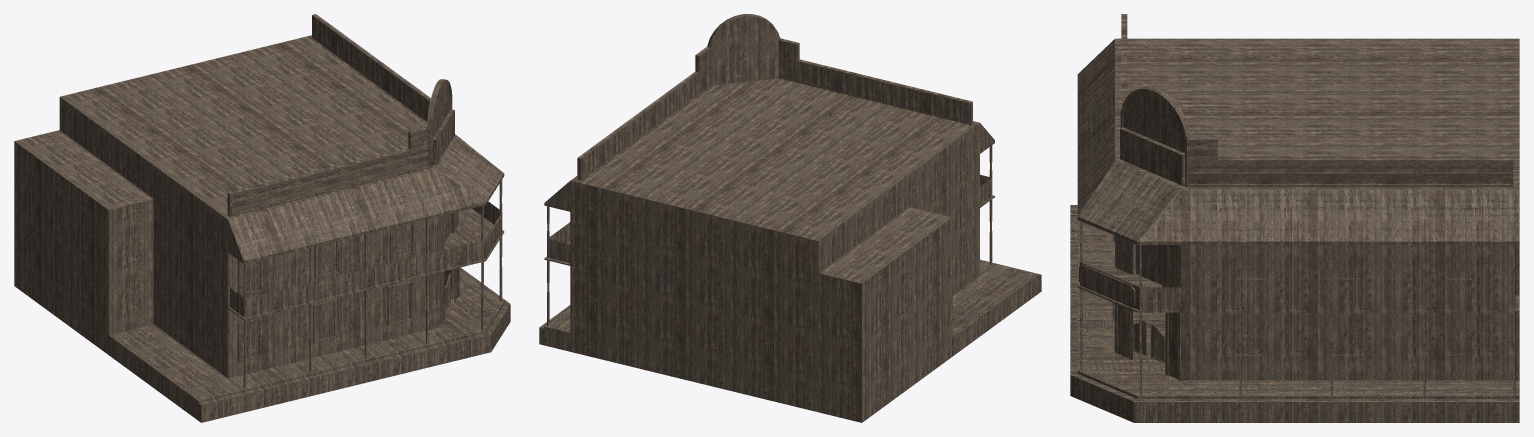
The model's file is House 5.fbx.
3 views of the same model, side by side, from view 1: azimuth 30°, elevation 25°; view 2: azimuth 150°, elevation 25°; view 3: azimuth 270°, elevation 25° (orthographic). The views are drawn at different scales.
Visible parts, largest first — view 1: Model; view 2: Model; view 3: Model.
Boxes of the visible parts, <box> form: Model: <box>14,14,510,422</box>; Model: <box>539,14,1041,422</box>; Model: <box>1070,14,1519,422</box>.
Bounding box in the file's own units: 87.79 × 61.7 × 84.67.
